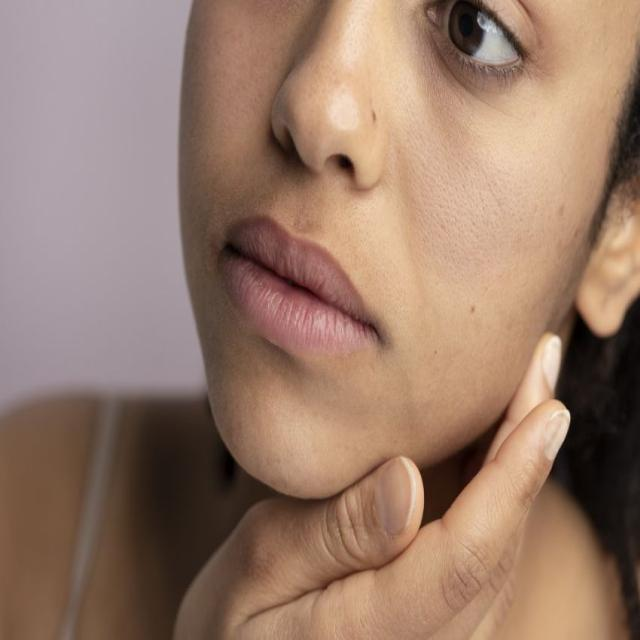Dry-Skin: (404, 137, 526, 367), (192, 31, 278, 181), (226, 370, 319, 447)
